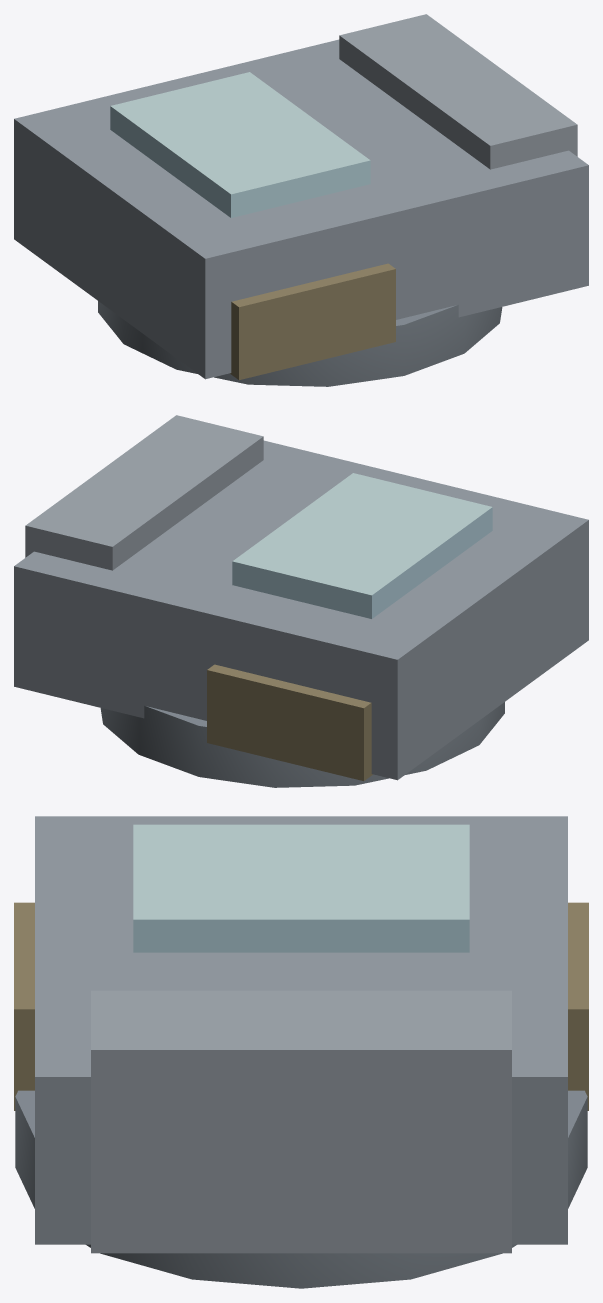
The model's file is t_flak.glb.
3 views of the same model, one above another, from view 1: azimuth 30°, elevation 25°; view 2: azimuth 150°, elevation 25°; view 3: azimuth 270°, elevation 25° (orthographic). The views are drawn at different scales.
Parts seen in each view (by area): view 1: t_flak; view 2: t_flak; view 3: t_flak.
Boxes of the visible parts, x1=… form: t_flak: x1=14, y1=14, x2=588, y2=386; t_flak: x1=14, y1=415, x2=588, y2=787; t_flak: x1=14, y1=816, x2=588, y2=1288.
Bounding box in the file's own units: 2.25 × 1 × 2.05.
